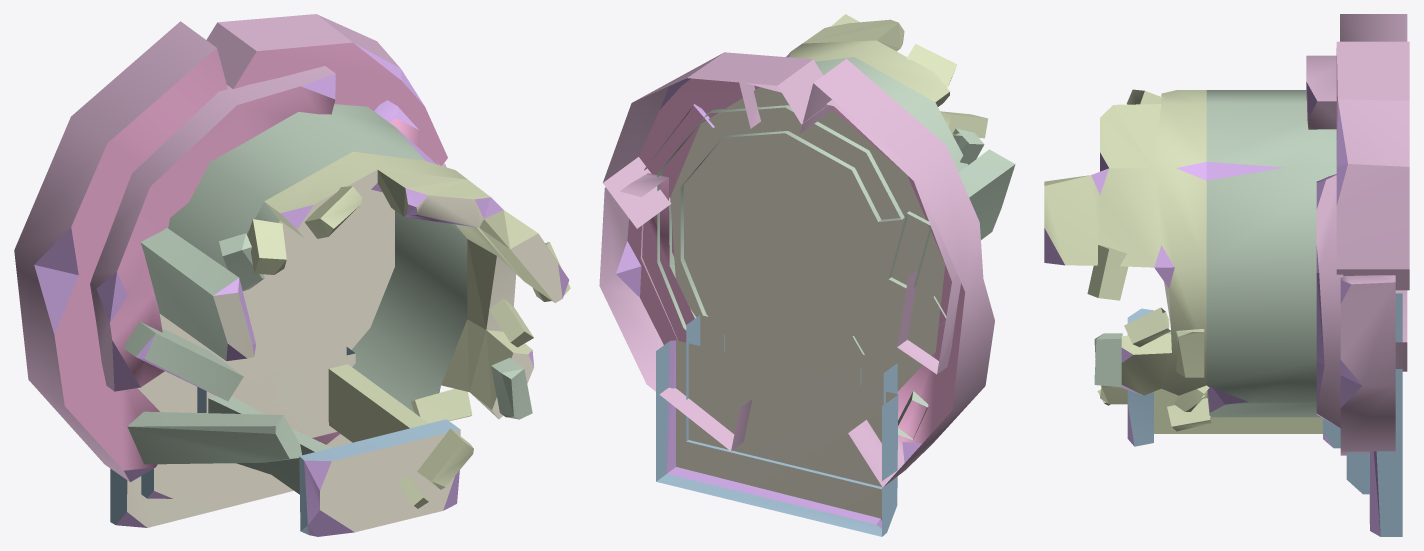
The picture shows the model from 3 angles, left to right: view 1: azimuth 30°, elevation 25°; view 2: azimuth 150°, elevation 25°; view 3: azimuth 270°, elevation 25°; orthographic projection. The views are drawn at different scales.
Visible parts, largest first — view 1: Object51; view 2: Object51; view 3: Object51.
Part boxes in pixels (x1,y1,x2,y2): Object51: [14, 14, 570, 536]; Object51: [599, 14, 1015, 536]; Object51: [1044, 14, 1409, 536].
Bounding box in the file's own units: 23795 × 26929 × 20045.
